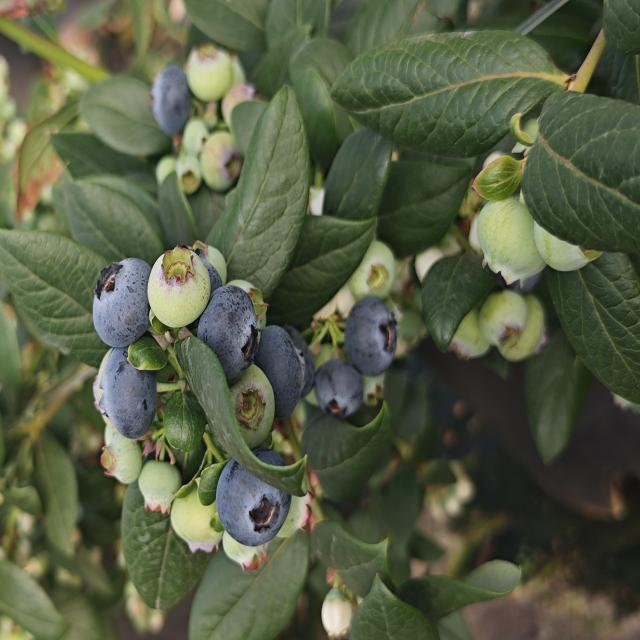ripe: (213, 448, 293, 550), (195, 283, 262, 387), (255, 317, 316, 423), (95, 344, 159, 442), (90, 255, 152, 350), (342, 294, 400, 379), (310, 354, 367, 430), (147, 62, 193, 140)
